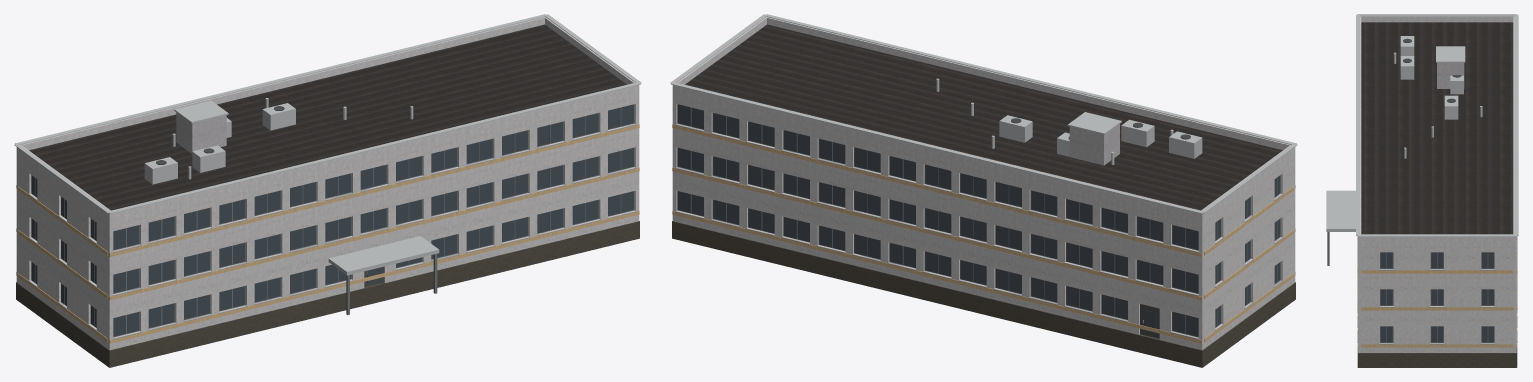
The model's file is school.glb.
The picture shows the model from 3 angles, left to right: view 1: azimuth 30°, elevation 25°; view 2: azimuth 150°, elevation 25°; view 3: azimuth 270°, elevation 25°; orthographic projection. The views are drawn at different scales.
Visible parts, largest first — view 1: school-plaster0; view 2: school-plaster0; view 3: school-plaster0.
Boxes of the visible parts, x1=… form: school-plaster0: x1=14, y1=14, x2=641, y2=367; school-plaster0: x1=670, y1=14, x2=1297, y2=367; school-plaster0: x1=1326, y1=14, x2=1518, y2=367.
Size of the model in its own units: 46.36 by 15.02 by 16.98.
10 materials, 5 textured.
